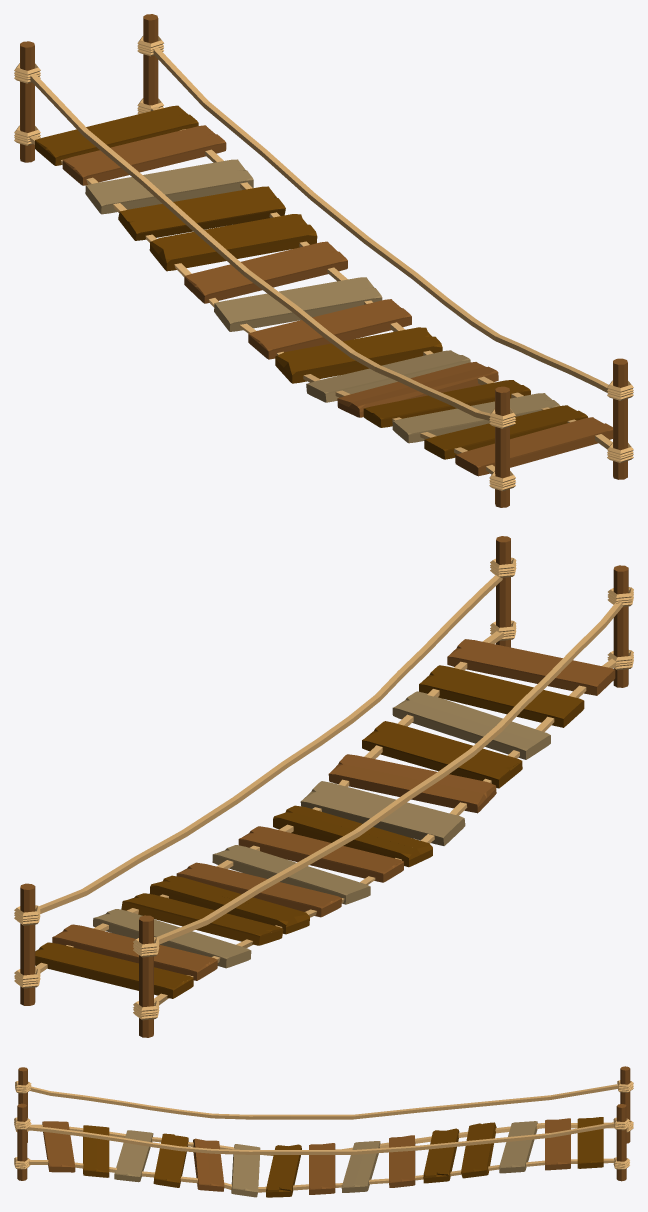
File: PONTE.MAIOR.fbx
3 views of the same model, one above another, from view 1: azimuth 30°, elevation 25°; view 2: azimuth 150°, elevation 25°; view 3: azimuth 270°, elevation 25° (orthographic). The views are drawn at different scales.
Visible parts, largest first — view 1: Cube.014, Cube.012, Cube.013, Cube.015, Cube.016, Cube.009, Cube.006, Cube.008, Cube.017, Cube.007, Cube.018, Cube (+11 smaller); view 2: Cube.012, Cube.013, Cube.004, Cube.001, Cube.003, Cube.005, Cube, Cube.002, Cube.007, Cube.006, Cube.018, Cube.014 (+11 smaller); view 3: Cube.012, Cube.013, Cube.015, Cube.014, Cube.003, Cube.006, Cube.002, Cube.016, Cube.008, Cube, Cube.004, Cube.001 (+11 smaller).
Boxes of the visible parts, x1=… form: Cube.014: x1=149, y1=214, x2=317, y2=271; Cube.012: x1=30, y1=74, x2=490, y2=420; Cube.013: x1=153, y1=48, x2=608, y2=392; Cube.015: x1=118, y1=186, x2=285, y2=240; Cube.016: x1=85, y1=159, x2=253, y2=214; Cube.009: x1=184, y1=241, x2=347, y2=303; Cube.006: x1=275, y1=327, x2=442, y2=383; Cube.008: x1=214, y1=277, x2=382, y2=331; Cube.017: x1=62, y1=125, x2=226, y2=185; Cube.007: x1=248, y1=299, x2=411, y2=359; Cube.018: x1=35, y1=105, x2=198, y2=165; Cube: x1=455, y1=417, x2=612, y2=476; Cube.012: x1=157, y1=602, x2=622, y2=944; Cube.013: x1=39, y1=575, x2=502, y2=913; Cube.004: x1=328, y1=754, x2=496, y2=813; Cube.001: x1=419, y1=665, x2=584, y2=727; Cube.003: x1=362, y1=721, x2=522, y2=788; Cube.005: x1=300, y1=781, x2=465, y2=845; Cube: x1=447, y1=639, x2=615, y2=695; Cube.002: x1=392, y1=691, x2=550, y2=759; Cube.007: x1=238, y1=826, x2=403, y2=882; Cube.006: x1=273, y1=805, x2=432, y2=867; Cube.018: x1=35, y1=942, x2=193, y2=998; Cube.014: x1=149, y1=875, x2=309, y2=934; Cube.012: x1=30, y1=1084, x2=617, y2=1119; Cube.013: x1=26, y1=1122, x2=614, y2=1154; Cube.015: x1=461, y1=1122, x2=496, y2=1178; Cube.014: x1=423, y1=1128, x2=459, y2=1183; Cube.003: x1=153, y1=1133, x2=188, y2=1187; Cube.006: x1=266, y1=1144, x2=301, y2=1197; Cube.002: x1=114, y1=1130, x2=153, y2=1182; Cube.016: x1=499, y1=1121, x2=537, y2=1173; Cube.008: x1=341, y1=1141, x2=380, y2=1192; Cube: x1=42, y1=1121, x2=75, y2=1172; Cube.004: x1=193, y1=1138, x2=224, y2=1191; Cube.001: x1=83, y1=1125, x2=109, y2=1177.
Bounding box in the file's own units: 1123 × 975 × 6239.
